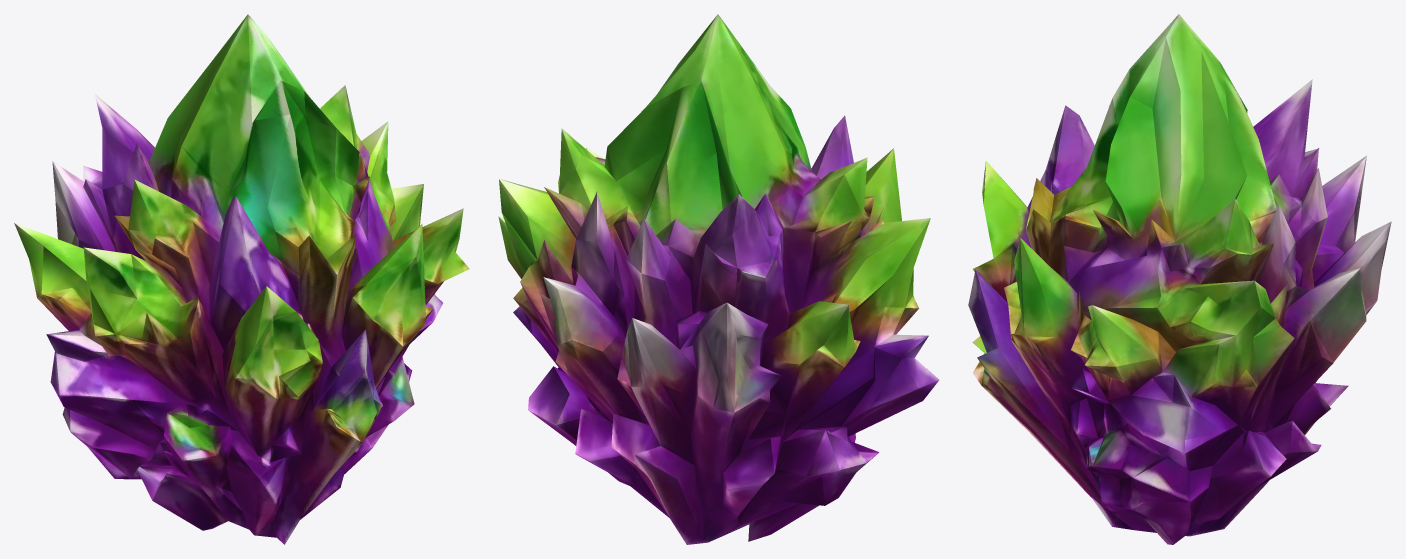
The model's file is m2AlienCrystal.glb.
The picture shows the model from 3 angles, left to right: view 1: azimuth 30°, elevation 25°; view 2: azimuth 150°, elevation 25°; view 3: azimuth 270°, elevation 25°; orthographic projection.
Visible parts, largest first — view 1: model; view 2: model; view 3: model.
Part boxes in pixels (x1,y1,x2,y2): model: [14, 14, 469, 544]; model: [498, 14, 938, 544]; model: [968, 14, 1391, 544].
Bounding box in the file's own units: 1.56 × 1.91 × 1.41.
1 material, 1 textured.
